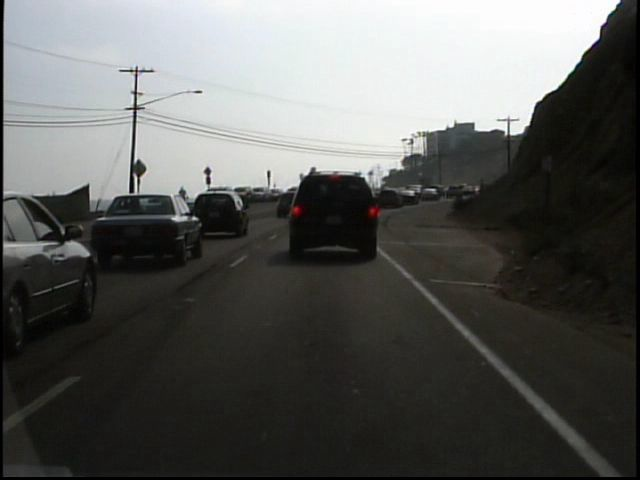person: (176, 183, 190, 211)
